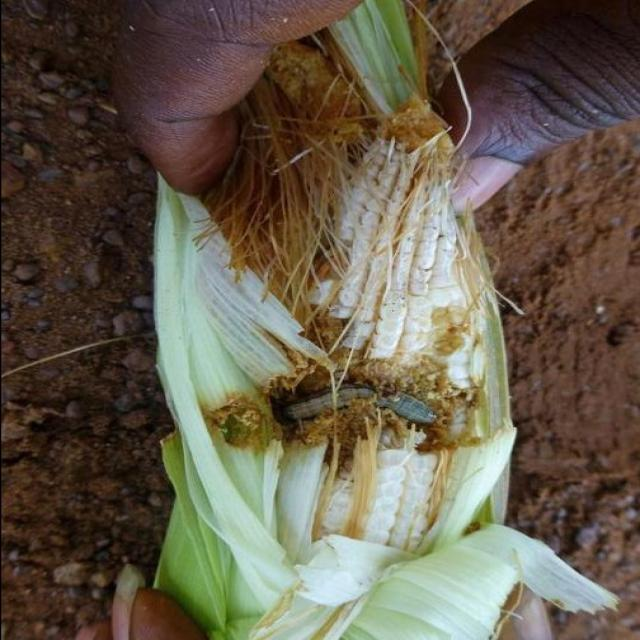army worm: (270, 378, 448, 440)
